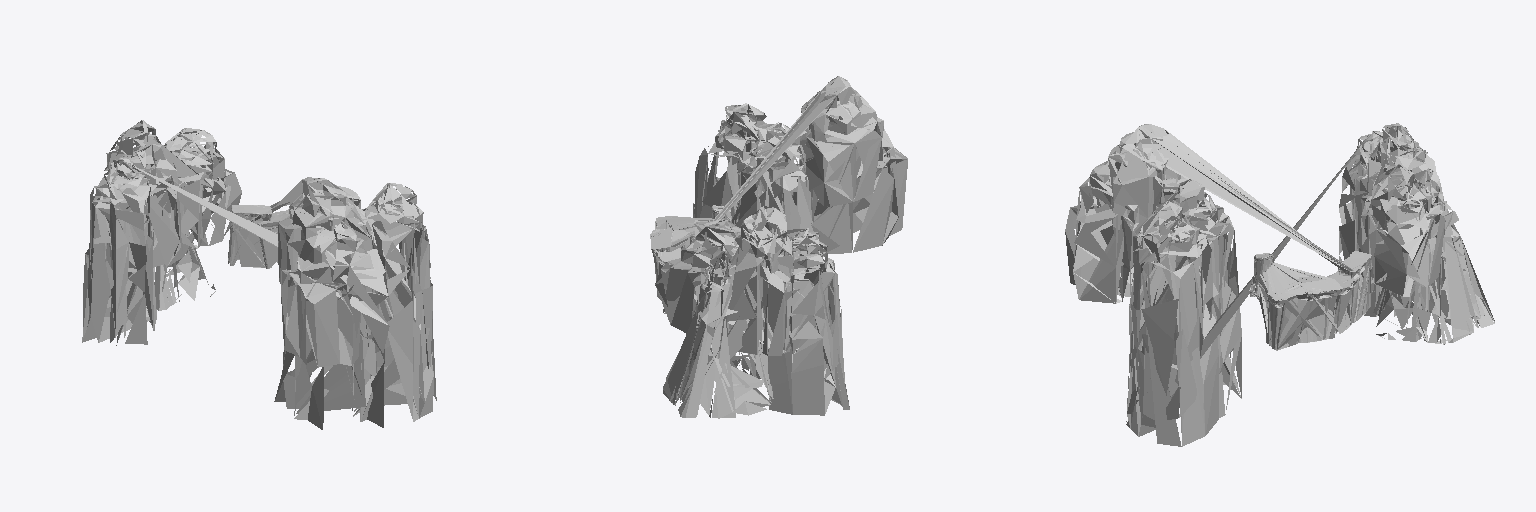
File: cellMoss_GreenPillars_Proxy-sharedassets3.assets-592.obj
3 views of the same model, side by side, from view 1: azimuth 30°, elevation 25°; view 2: azimuth 150°, elevation 25°; view 3: azimuth 270°, elevation 25° (orthographic).
Parts seen in each view (by area): view 1: cellMoss_GreenPillars_Proxy_3, cellMoss_GreenPillars_Proxy_1; view 2: cellMoss_GreenPillars_Proxy_3, cellMoss_GreenPillars_Proxy_1; view 3: cellMoss_GreenPillars_Proxy_3, cellMoss_GreenPillars_Proxy_1, cellMoss_GreenPillars_Proxy_4.
Boxes of the visible parts, x1,y1,x2,y2 form: cellMoss_GreenPillars_Proxy_3: [82, 120, 436, 429]; cellMoss_GreenPillars_Proxy_1: [228, 177, 371, 286]; cellMoss_GreenPillars_Proxy_3: [650, 80, 907, 418]; cellMoss_GreenPillars_Proxy_1: [650, 76, 883, 299]; cellMoss_GreenPillars_Proxy_3: [1065, 123, 1494, 446]; cellMoss_GreenPillars_Proxy_1: [1090, 124, 1371, 350]; cellMoss_GreenPillars_Proxy_4: [1250, 253, 1326, 350].
Size of the model in its own units: 115 by 112 by 168.